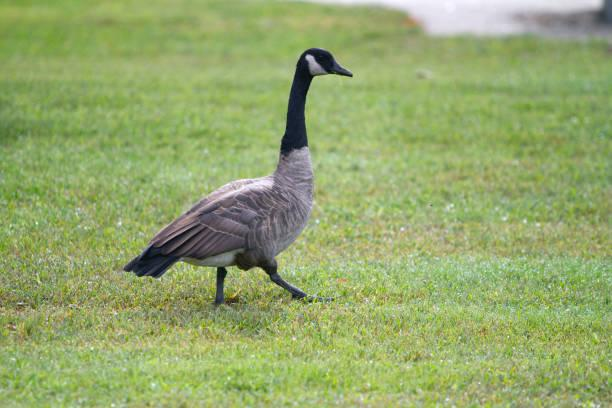Canadian-Goose: (127, 41, 353, 305)
